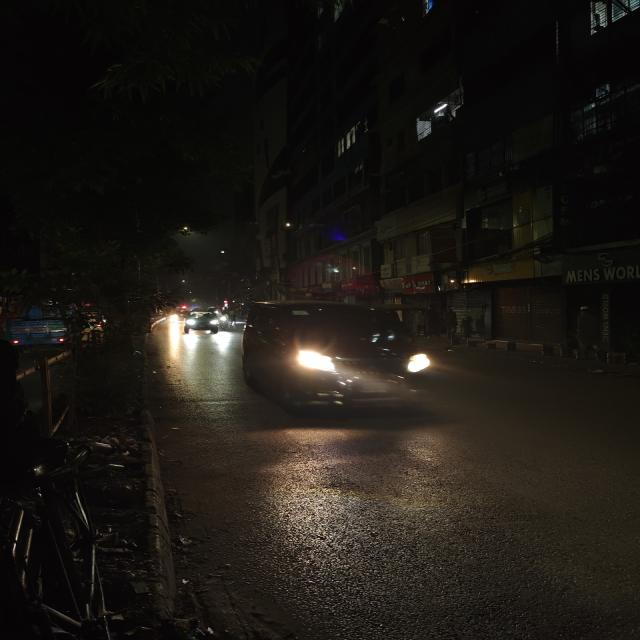car: (234, 298, 433, 417), (182, 308, 223, 334)
pickup_van: (1, 312, 67, 348)
